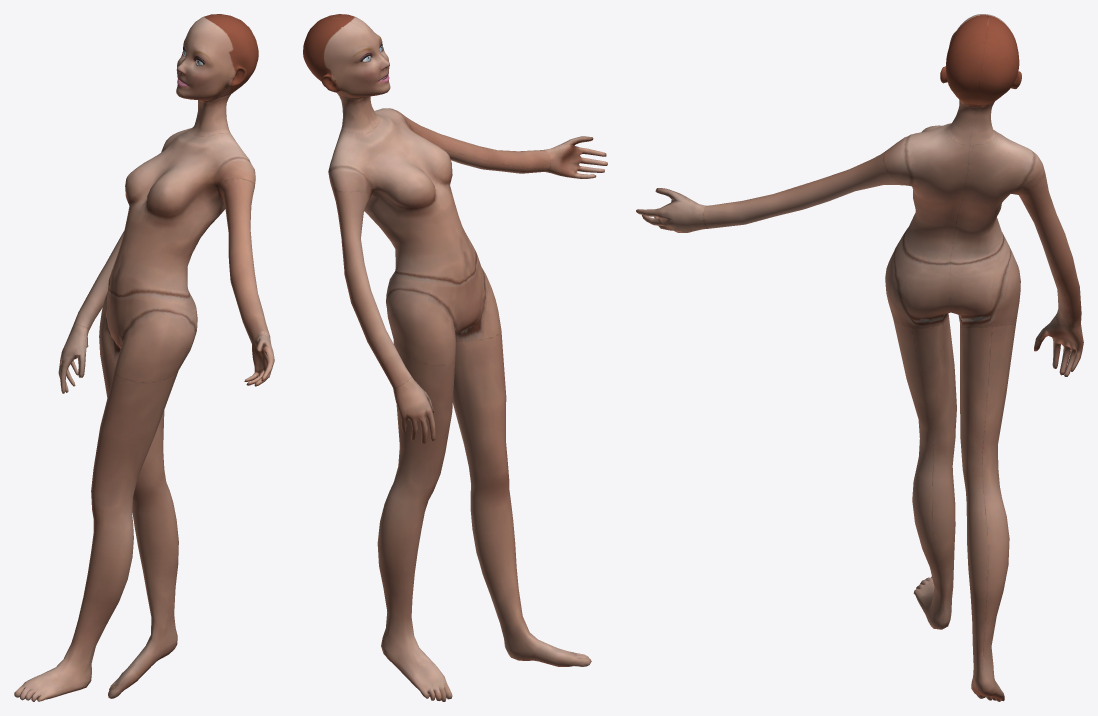
Rendered from SM_Dolls_Barbie_1.fbx.
3 renders of one model, left to right at view 1: azimuth 30°, elevation 25°; view 2: azimuth 150°, elevation 25°; view 3: azimuth 270°, elevation 25°, orthographic. The views are drawn at different scales.
Visible parts, largest first — view 1: SM_Dolls_Barbie_1; view 2: SM_Dolls_Barbie_1; view 3: SM_Dolls_Barbie_1.
Boxes of the visible parts, x1=… form: SM_Dolls_Barbie_1: x1=14, y1=14, x2=274, y2=701; SM_Dolls_Barbie_1: x1=303, y1=14, x2=607, y2=701; SM_Dolls_Barbie_1: x1=636, y1=14, x2=1083, y2=701.
Size of the model in its own units: 15.76 by 20.91 by 38.01.
Materials: 1 (1 with a texture image).
